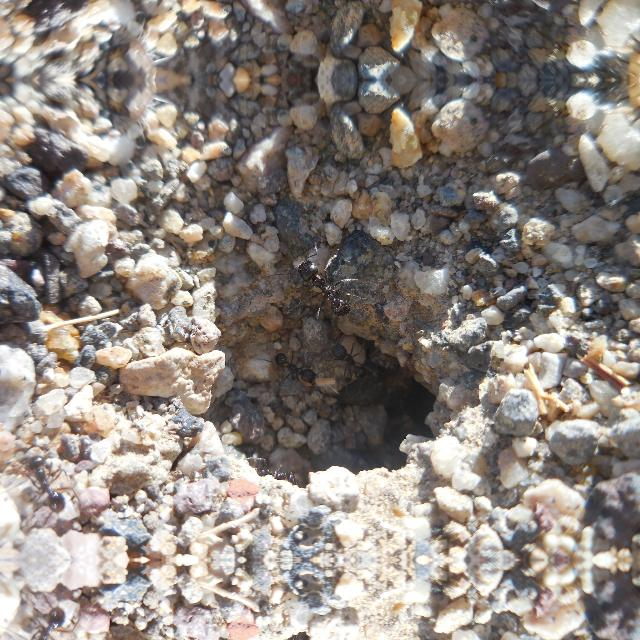Messor: (282, 242, 358, 331), (18, 451, 84, 523), (236, 454, 312, 498), (18, 597, 83, 640), (236, 622, 311, 640)
